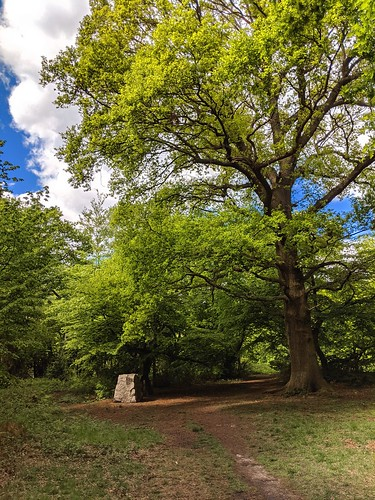tree: (129, 1, 375, 398)
vegetation: (1, 225, 359, 403)
